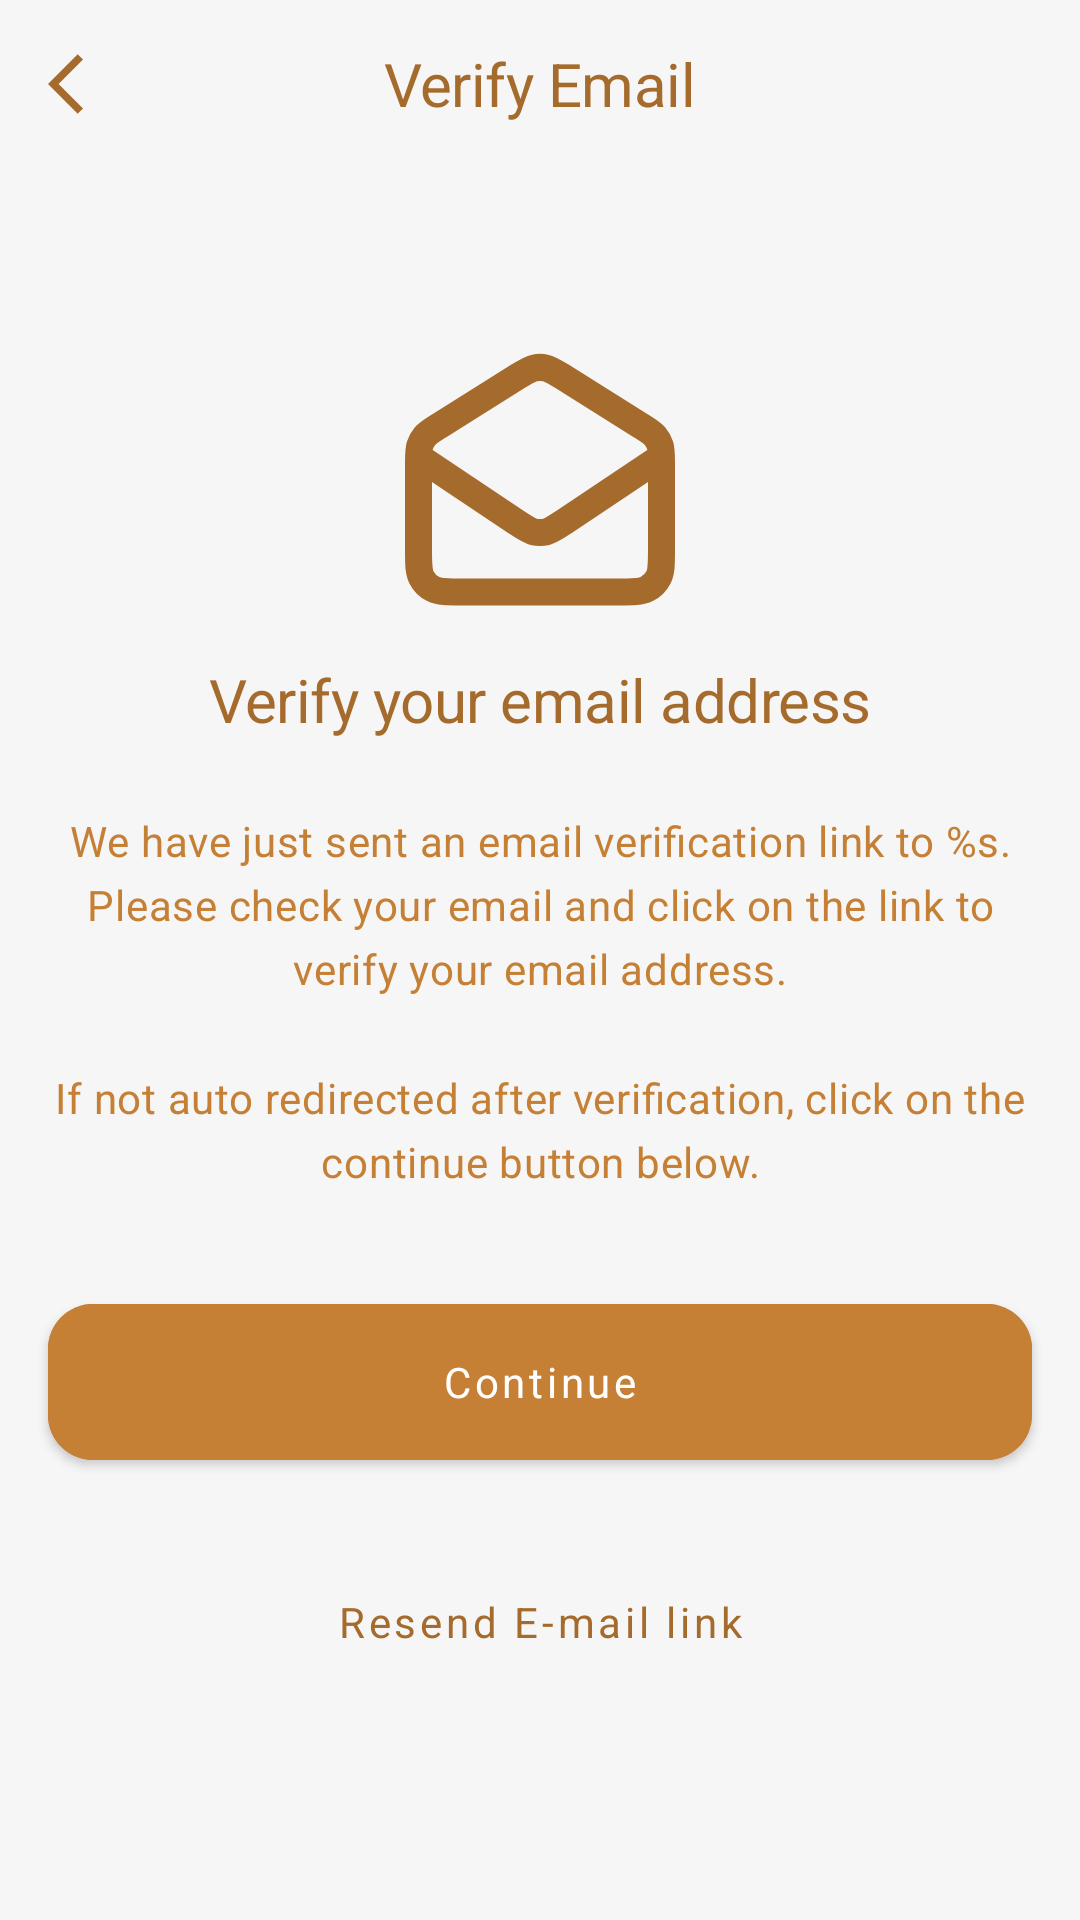

Point at icon controls on the screen. Image size 1080x1920, points as [x,y].
Open Email Icon: [540,479]
